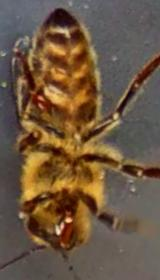varroa_mite: (20, 86, 54, 119)
